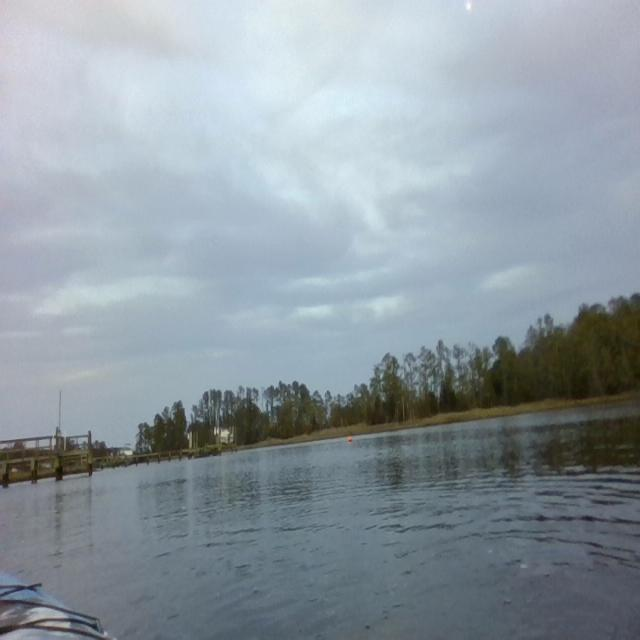Buoy: (347, 433, 353, 443)
